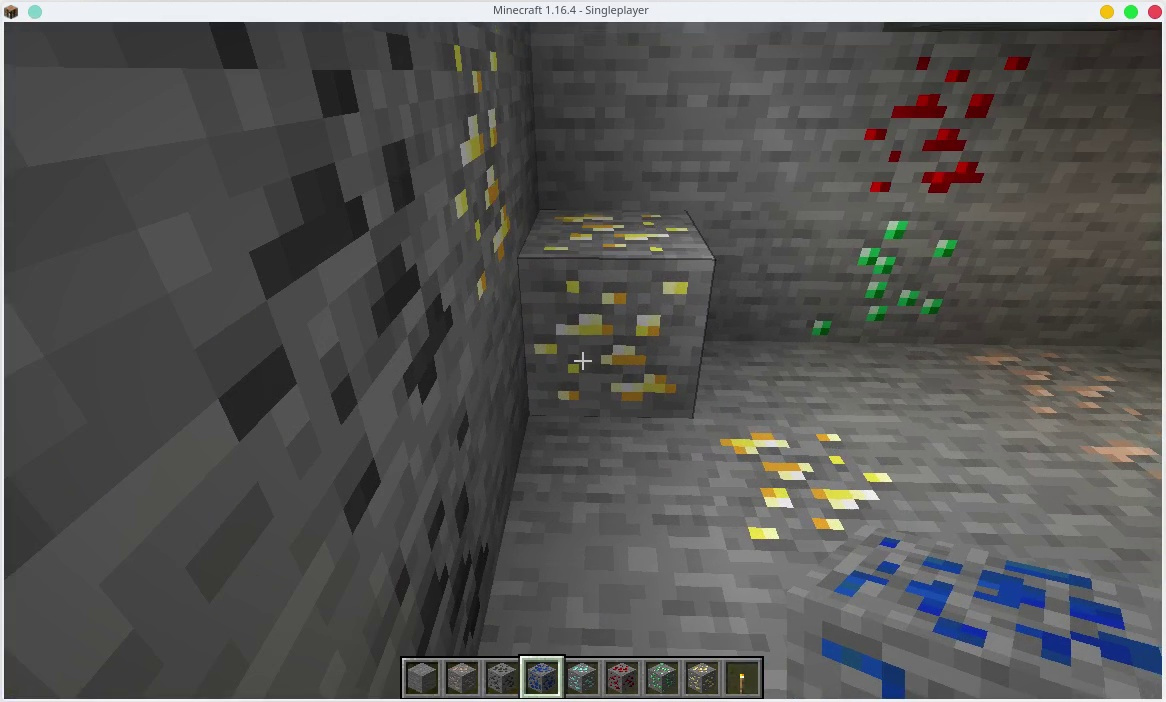gold: (526, 197, 712, 419), (722, 416, 890, 548), (453, 39, 517, 274)
